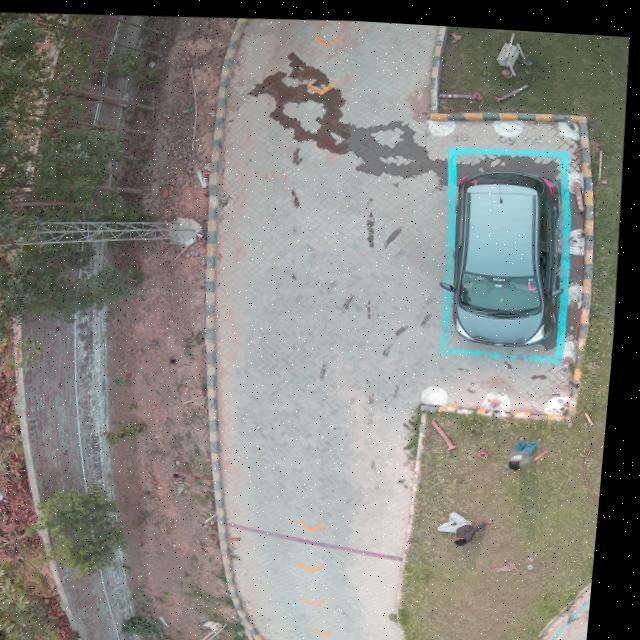car: (445, 164, 567, 339)
